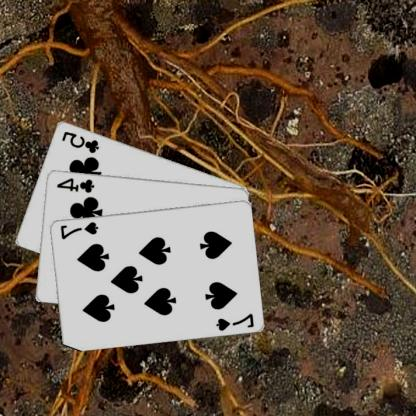4C: (55, 175, 97, 193)
5C: (61, 128, 102, 154)
7S: (59, 219, 101, 240), (215, 311, 257, 332)
